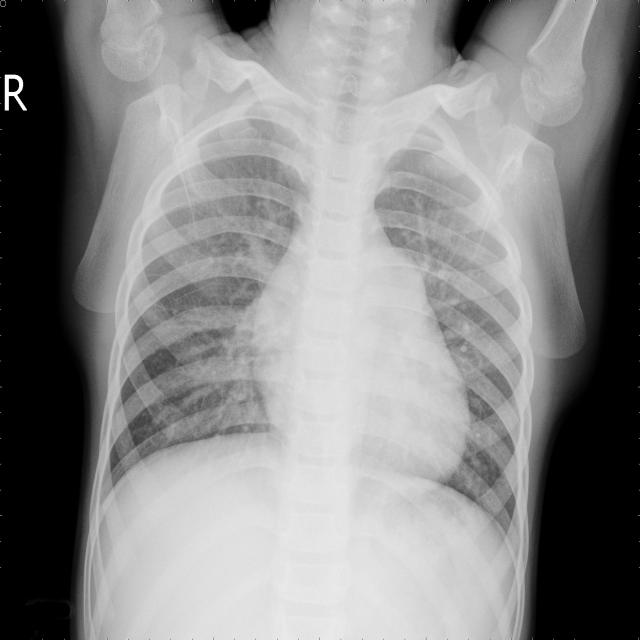low-pneumonia: (378, 150, 530, 327), (175, 232, 262, 443)
